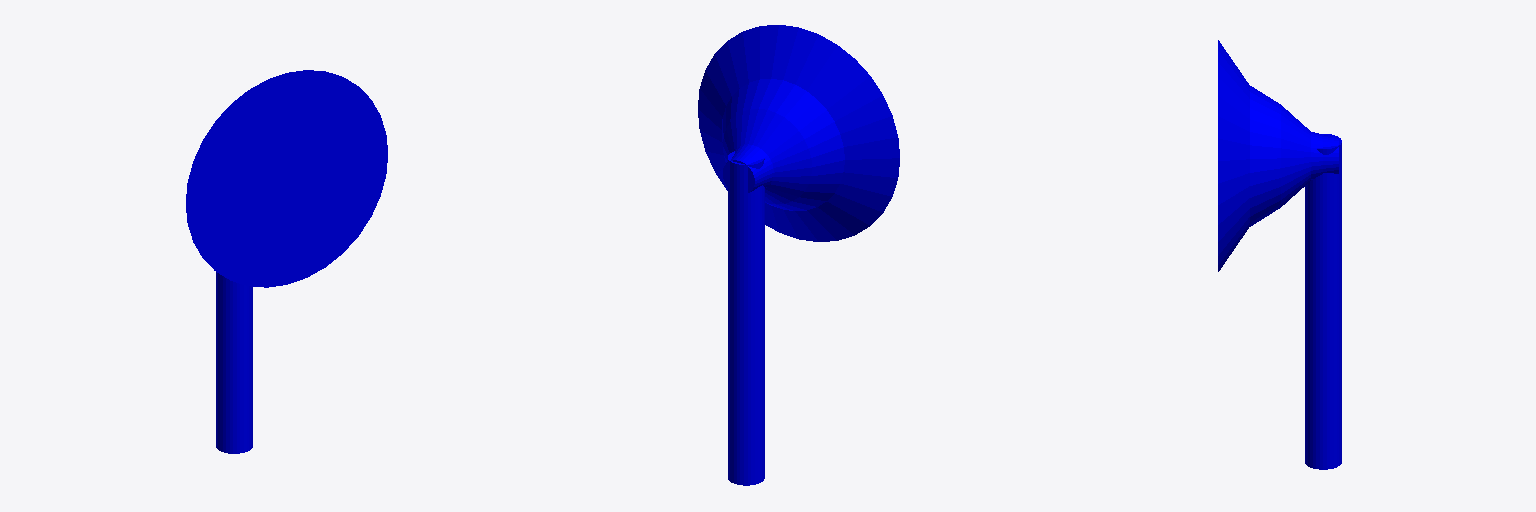
Rendered from speaker.obj.
3 views of the same model, side by side, from view 1: azimuth 30°, elevation 25°; view 2: azimuth 150°, elevation 25°; view 3: azimuth 270°, elevation 25° (orthographic).
Visible parts, largest first — view 1: Cylinder.001, Cylinder; view 2: Cylinder.001, Cylinder; view 3: Cylinder.001, Cylinder.
Boxes of the visible parts, <box> form: Cylinder.001: <box>186,70,387,287</box>; Cylinder: <box>216,272,252,453</box>; Cylinder.001: <box>698,25,899,241</box>; Cylinder: <box>728,151,764,485</box>; Cylinder.001: <box>1218,40,1338,271</box>; Cylinder: <box>1305,134,1341,469</box>.
Size of the model in its own units: 2.51 by 4.88 by 1.33.